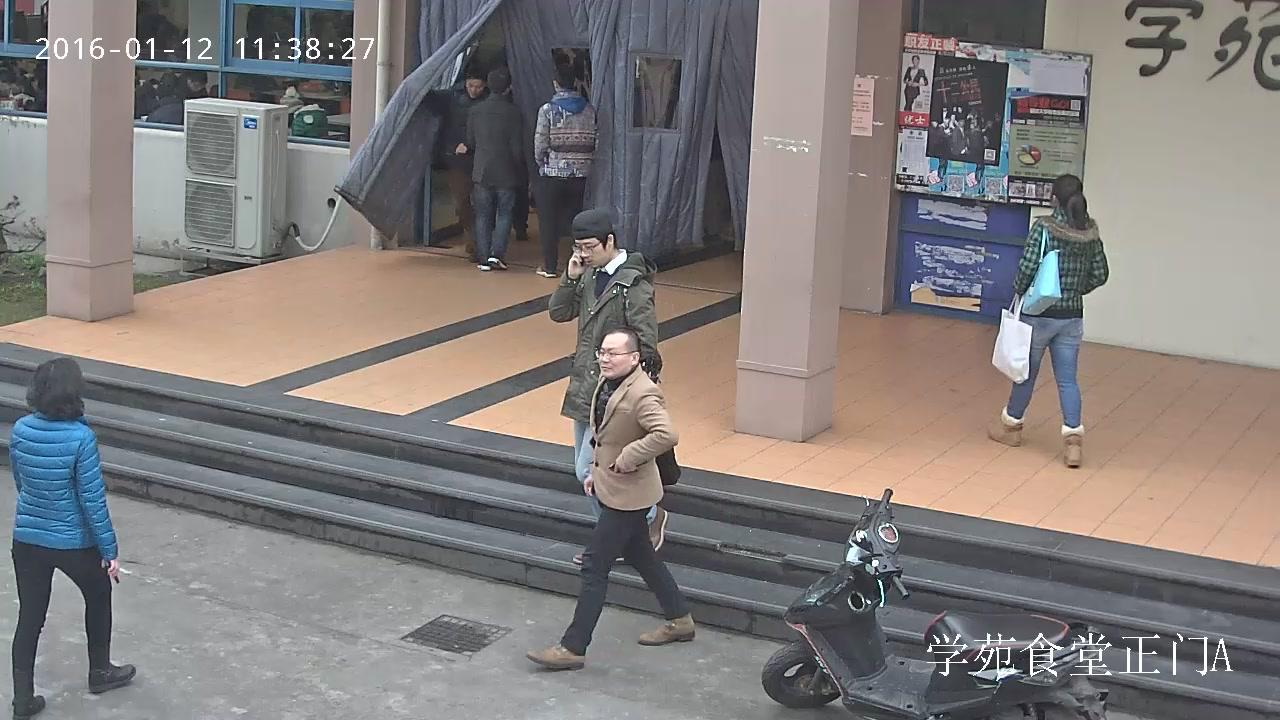person: (526, 327, 696, 670), (547, 208, 682, 565), (9, 357, 135, 720), (988, 173, 1127, 467), (534, 64, 597, 278), (465, 68, 528, 271), (424, 68, 494, 240), (277, 85, 328, 138), (134, 69, 179, 123), (902, 54, 928, 112), (150, 80, 183, 123), (180, 68, 204, 125)
